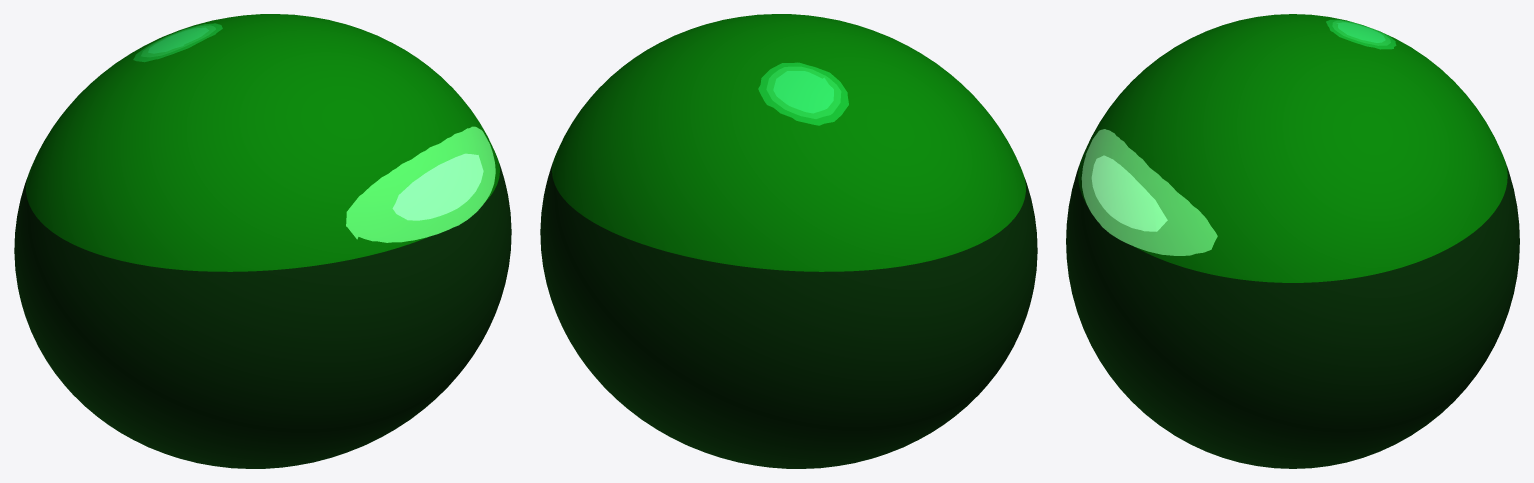
Rendered from gyges_orb_l.glb.
The picture shows the model from 3 angles, left to right: view 1: azimuth 30°, elevation 25°; view 2: azimuth 150°, elevation 25°; view 3: azimuth 270°, elevation 25°; orthographic projection.
Parts seen in each view (by area): view 1: gyges_orb_l; view 2: gyges_orb_l; view 3: gyges_orb_l.
Boxes of the visible parts, box(x1,y1,x2,y2) form: gyges_orb_l: box(14, 14, 511, 468); gyges_orb_l: box(540, 14, 1037, 468); gyges_orb_l: box(1066, 14, 1519, 468).
Bounding box in the file's own units: 21.2 × 18.8 × 19.2.
